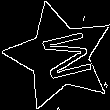M_W: (29, 28, 90, 85)
